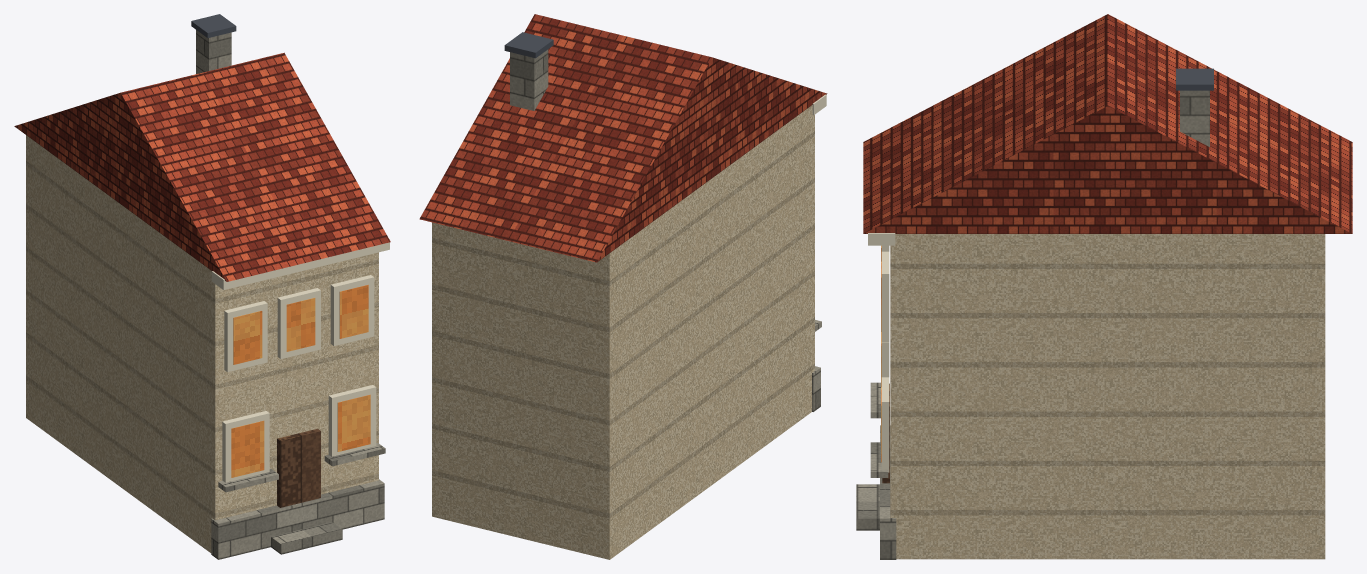
Rendered from ENV_C_Facade_5.fbx.
3 renders of one model, left to right at view 1: azimuth 30°, elevation 25°; view 2: azimuth 150°, elevation 25°; view 3: azimuth 270°, elevation 25°, orthographic. The views are drawn at different scales.
Visible parts, largest first — view 1: ENV_C_Facade_5; view 2: ENV_C_Facade_5; view 3: ENV_C_Facade_5.
Part boxes in pixels (box(x1,y1,x2,y2)): ENV_C_Facade_5: box(14, 14, 390, 559); ENV_C_Facade_5: box(419, 14, 827, 559); ENV_C_Facade_5: box(856, 14, 1352, 559).
Bounding box in the file's own units: 406 × 942 × 913.
Materials: 7 (5 with a texture image).
